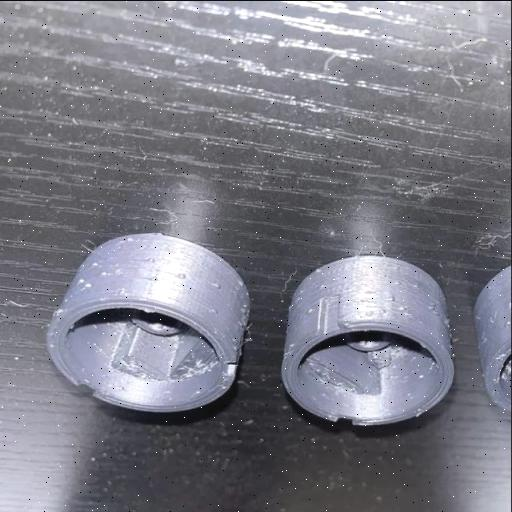blobs: (213, 280, 225, 293), (176, 270, 189, 280), (411, 281, 424, 289), (76, 276, 88, 284), (398, 303, 407, 312), (394, 278, 403, 287), (212, 304, 220, 314), (84, 281, 94, 289), (150, 254, 158, 264), (150, 276, 160, 284), (430, 302, 438, 312), (389, 294, 397, 302)
